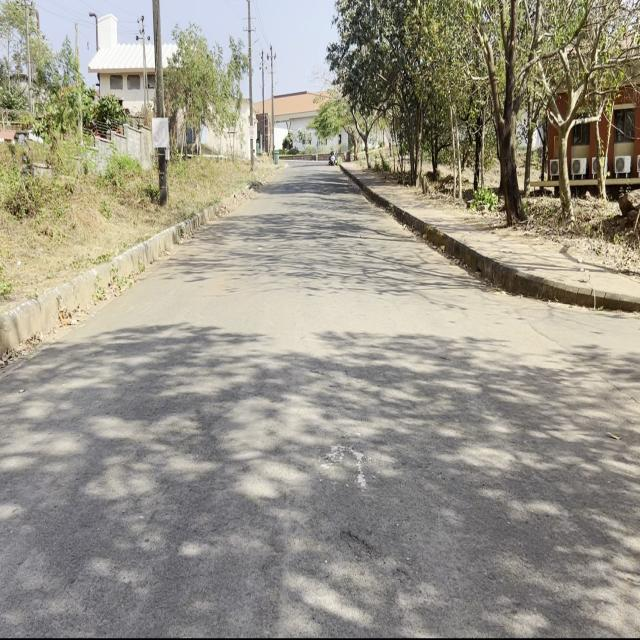Road: (3, 164, 636, 633)
